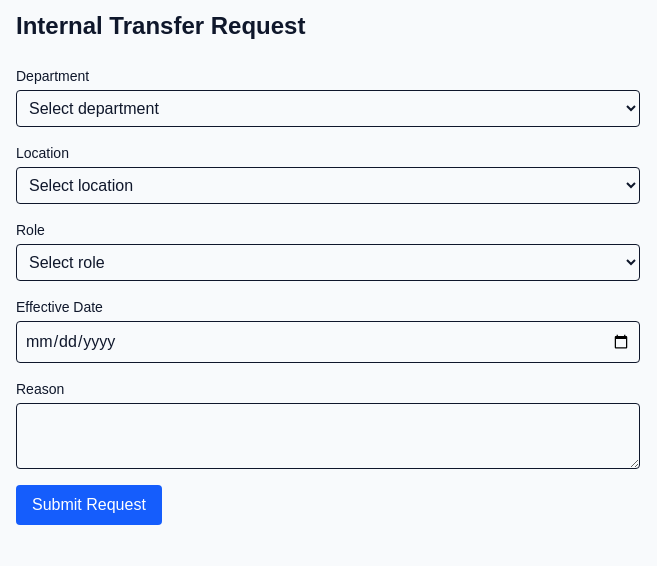
employee-internal-transfer — T04: Approved Form Validation (UT05 / AC05 / AC03) › displays validation error when roleId is missing
Select "Engineering" in the dropdown labelled "Department": (328, 108) [16, 90, 640, 127]
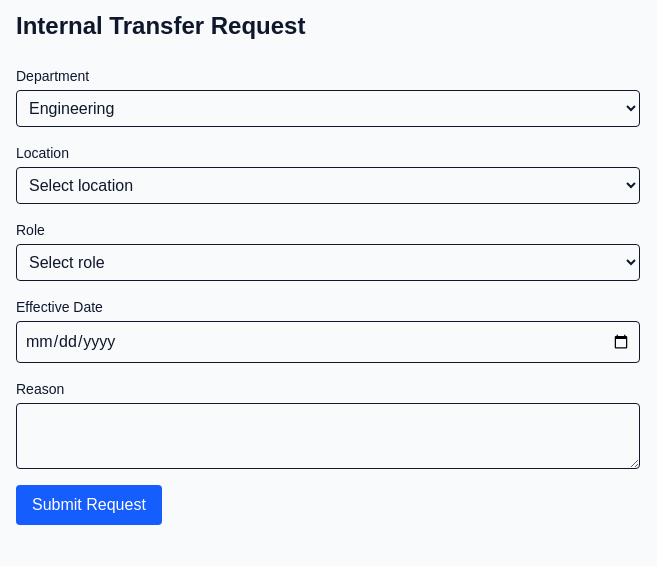
Select "New York" in the dropdown labelled "Location": (328, 186) [16, 167, 640, 204]
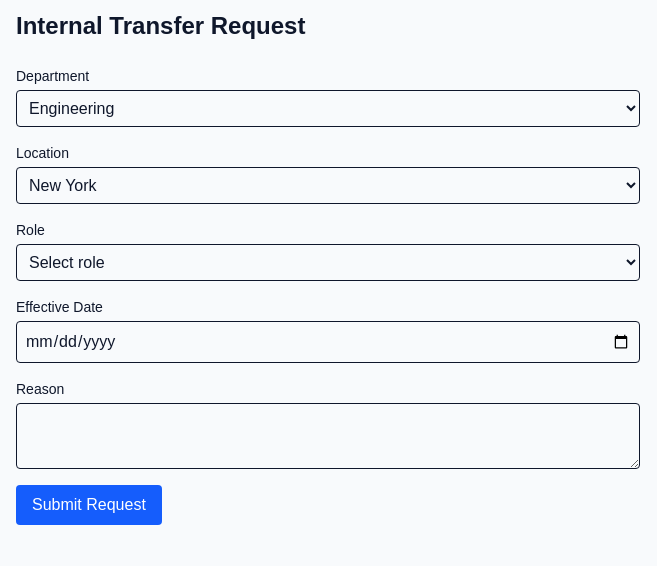
In the date field labelled "Effective Date": (328, 342) [16, 321, 640, 363], type "2026-10-01"
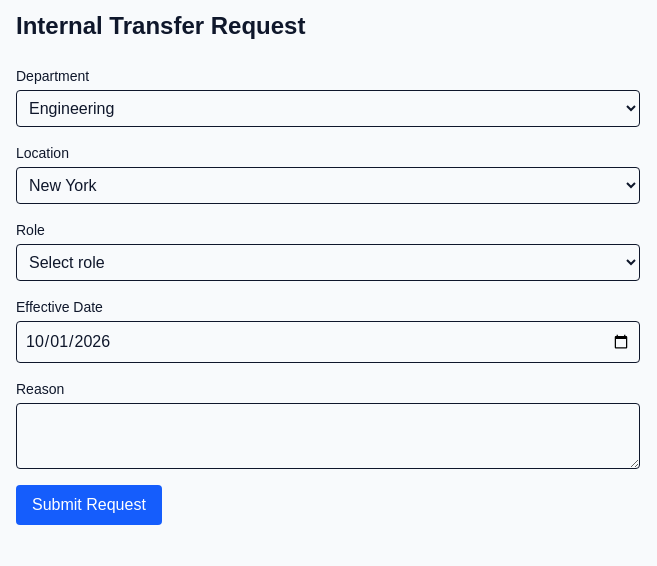
Click the button "Submit Request": (89, 505) [16, 485, 162, 525]
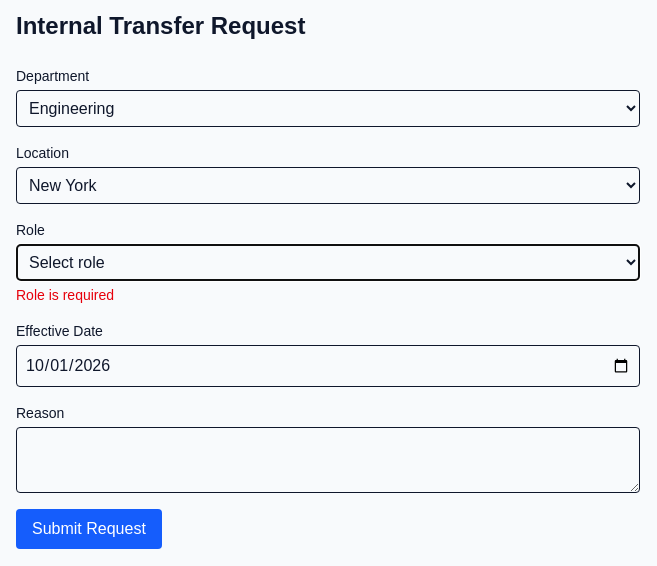
Result: the text "Role is required" is shown at [16, 287, 114, 303]
